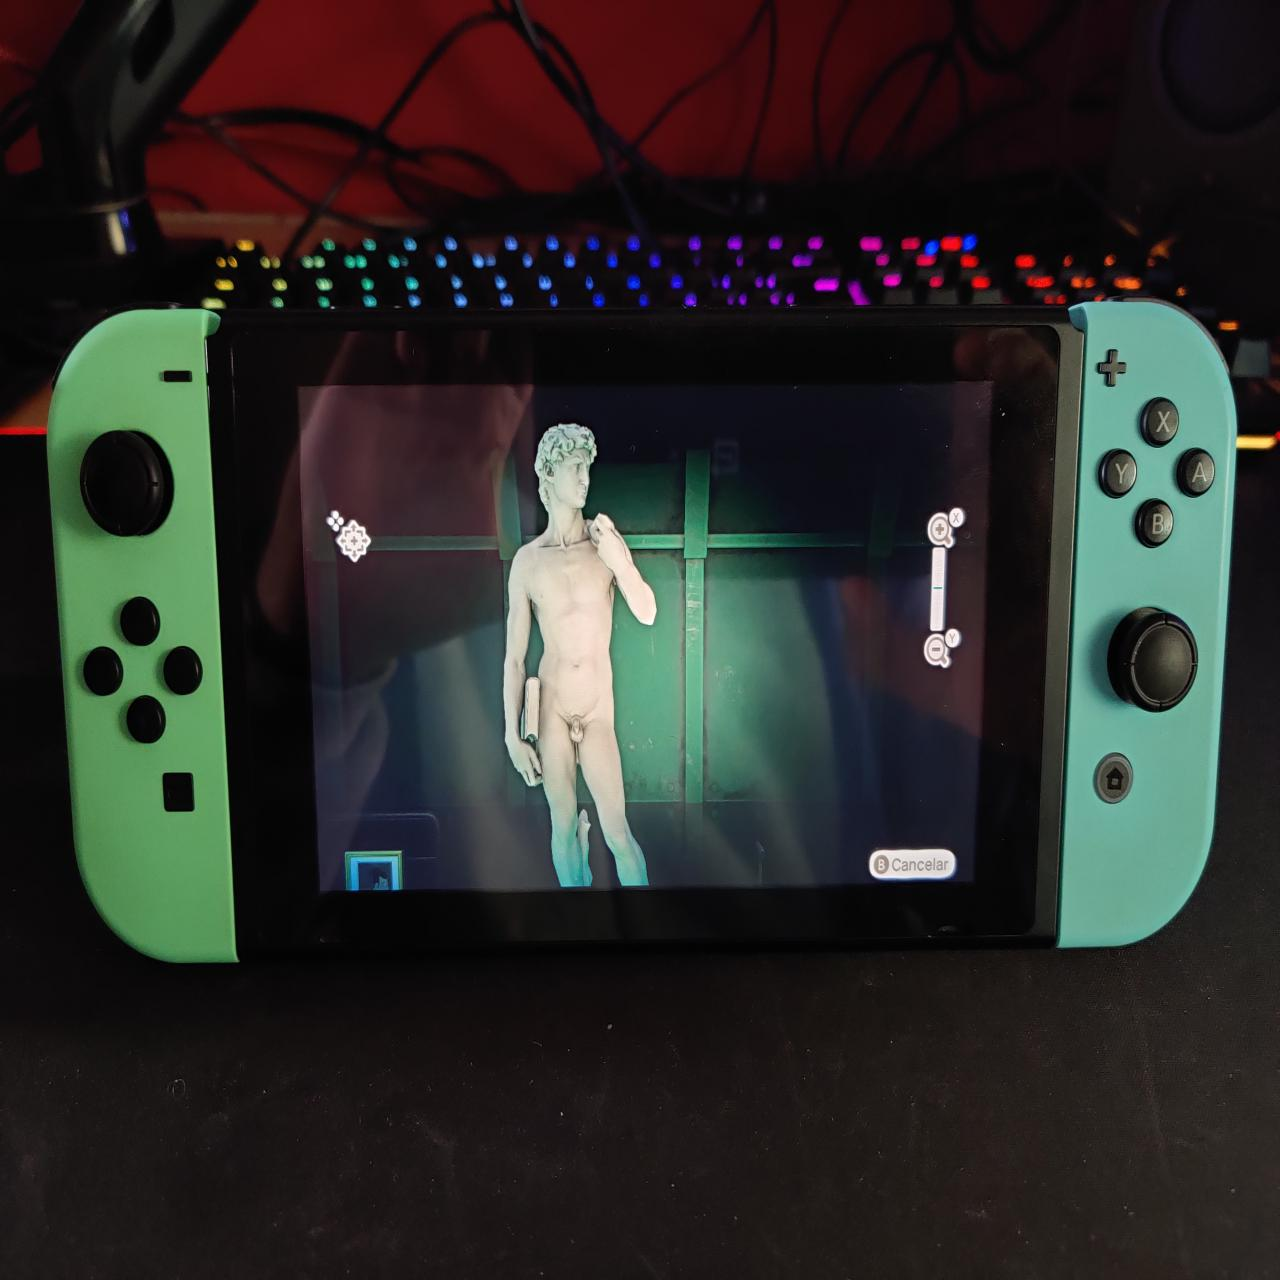DavidFake: (498, 421, 669, 888)
OotaniOnijiFake: (359, 863, 392, 891)
